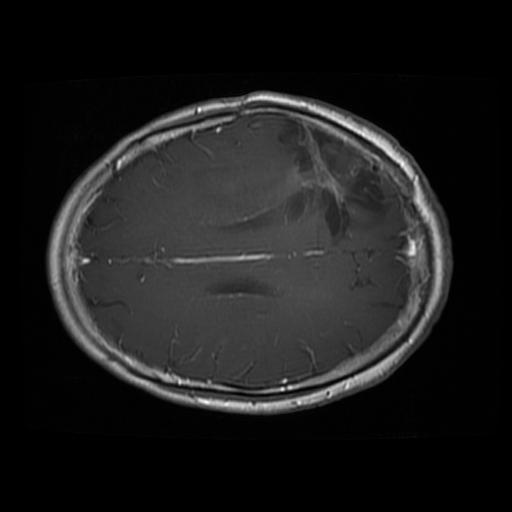glioma: (276, 119, 391, 247)
